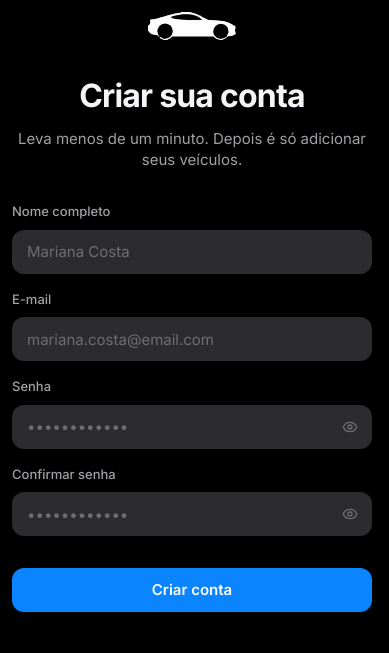
Test: RegisterForm › valida a confirmação de senha
Type "Ana" into the field labelled "Nome completo" at (192, 252), box [12,230,372,274]
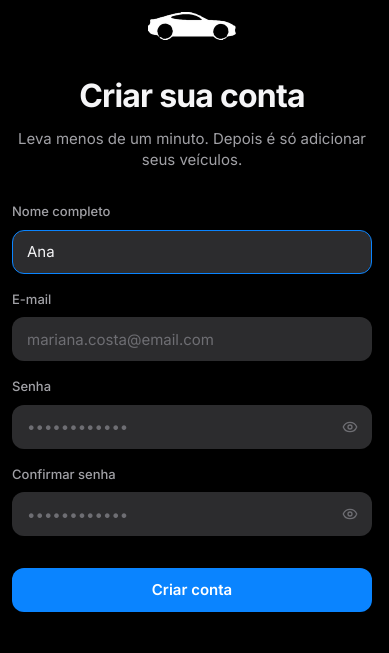
Type "ana@email.com" into the field labelled "E-mail" at (192, 339), box [12,317,372,361]
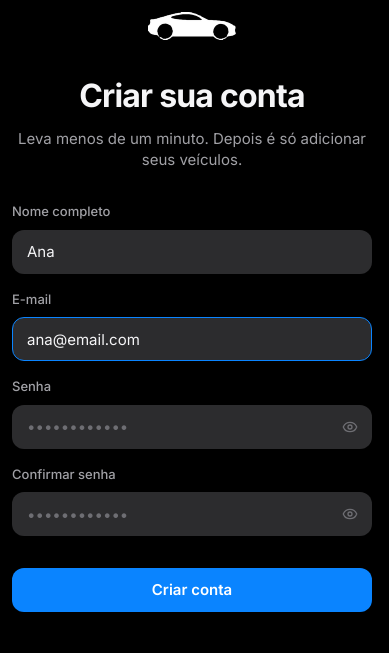
Type "Senha1234" into the password field labelled "Senha" at (192, 426), box [12,404,372,448]
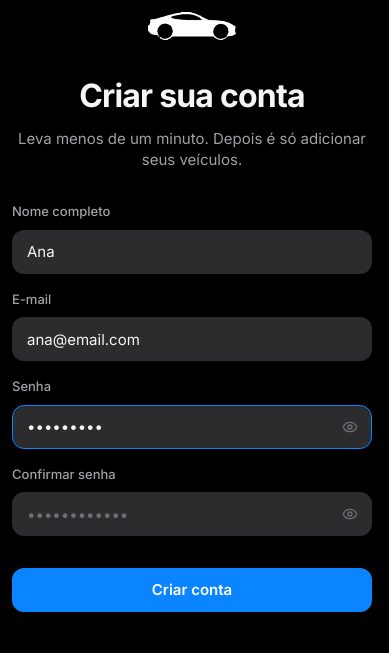
Type "Outra1234" into the password field labelled "Confirmar senha" at (192, 514), box [12,492,372,536]
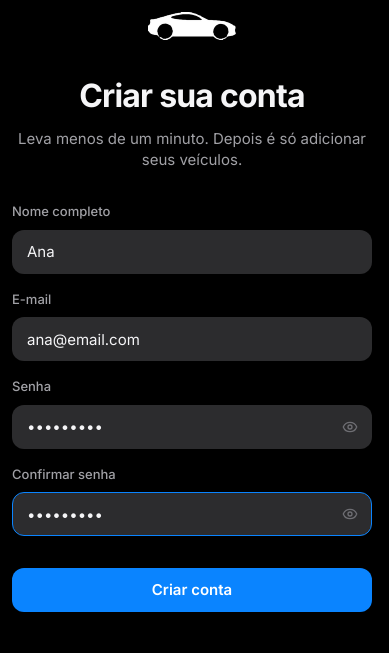
Click the button "Criar conta" at (192, 590), box [12,568,372,612]
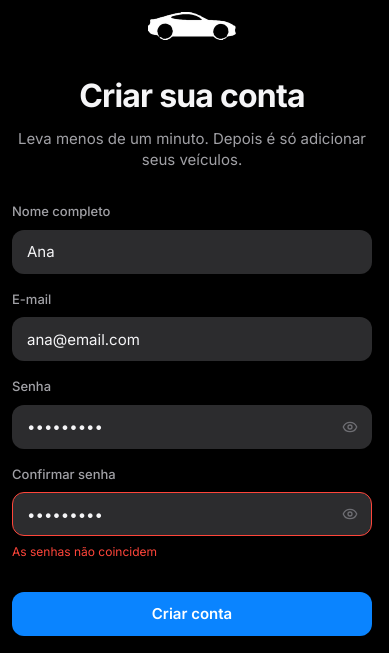
Now the text "As senhas não coincidem" is shown, box [12,544,157,559]
